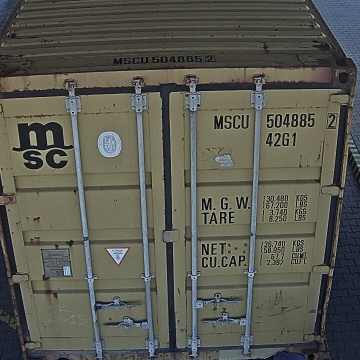serial_id: (214, 113, 336, 129)
